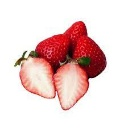strawberry: (14, 50, 57, 98), (52, 60, 91, 112)
